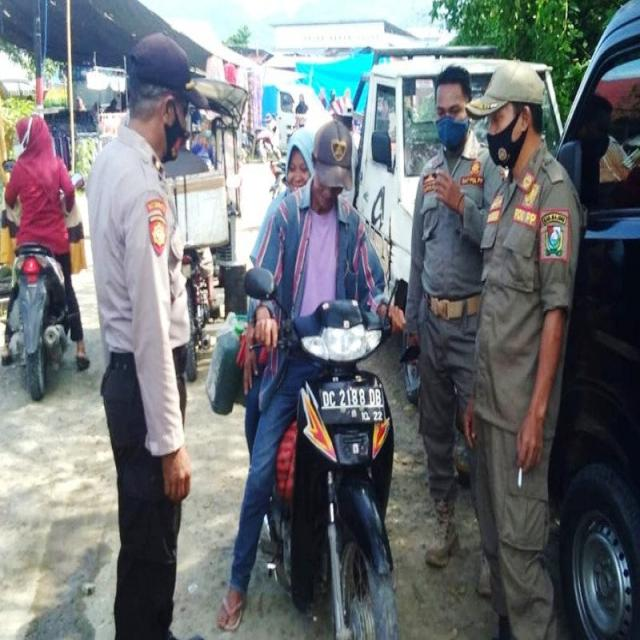plate: (319, 386, 386, 422)
